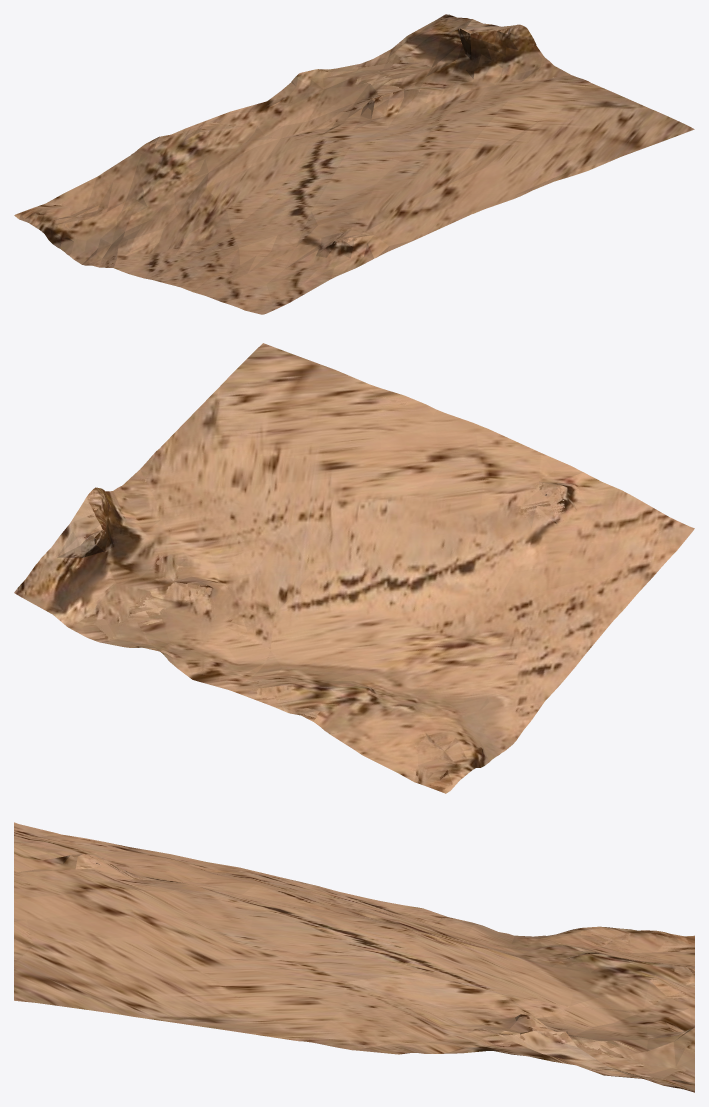
3 views of the same model, one above another, from view 1: azimuth 30°, elevation 25°; view 2: azimuth 150°, elevation 25°; view 3: azimuth 270°, elevation 25° (orthographic). The views are drawn at different scales.
Size of the model in its own units: 1.04 by 0.3784 by 1.04.
3 materials, 3 textured.
